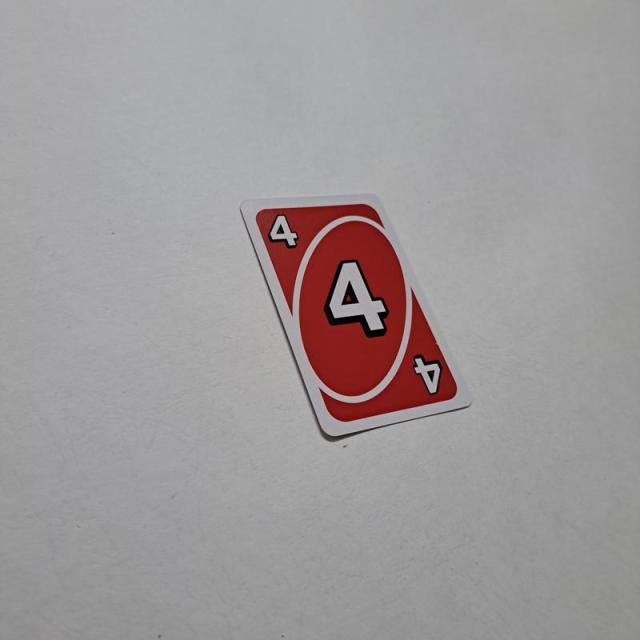Number_4: (268, 211, 300, 256)
Red_Card: (251, 202, 464, 426)
